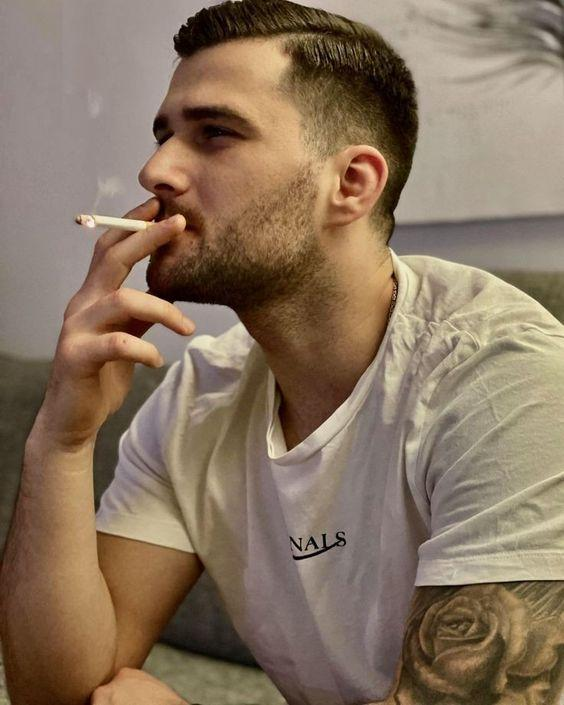cigarette: (74, 212, 159, 232)
